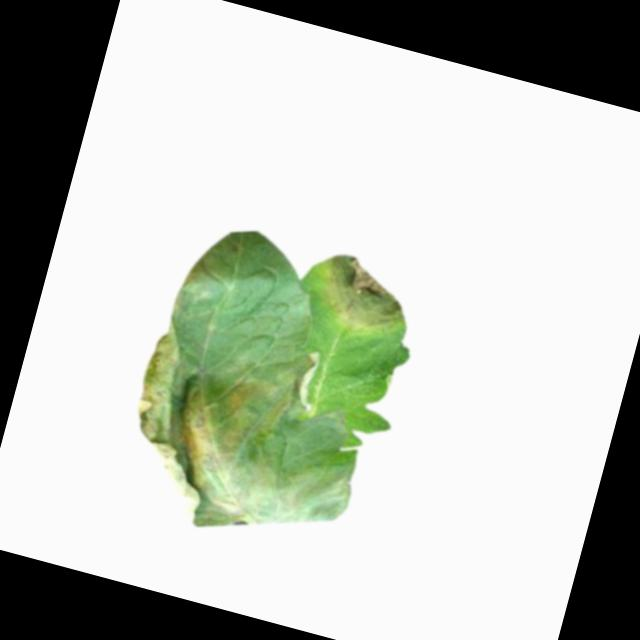Late_blight: (109, 317, 318, 544), (307, 246, 418, 346), (274, 450, 359, 539)
